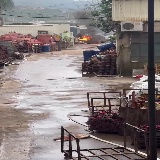fire: (79, 36, 92, 40)
